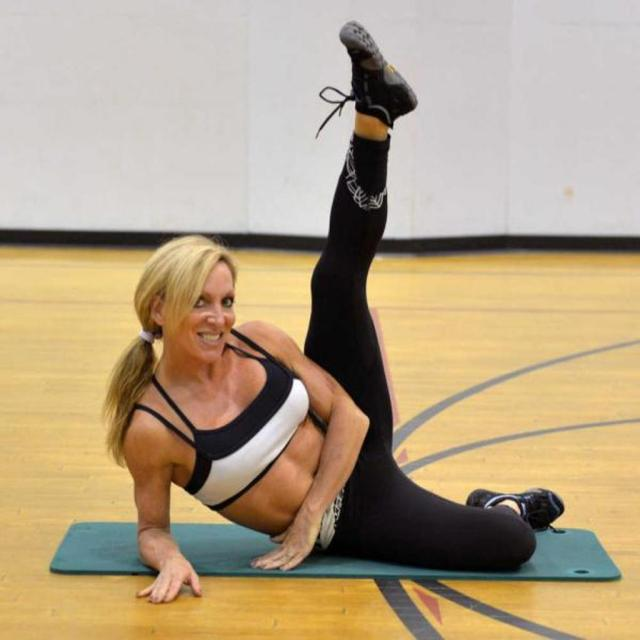Face: (176, 255, 239, 365)
